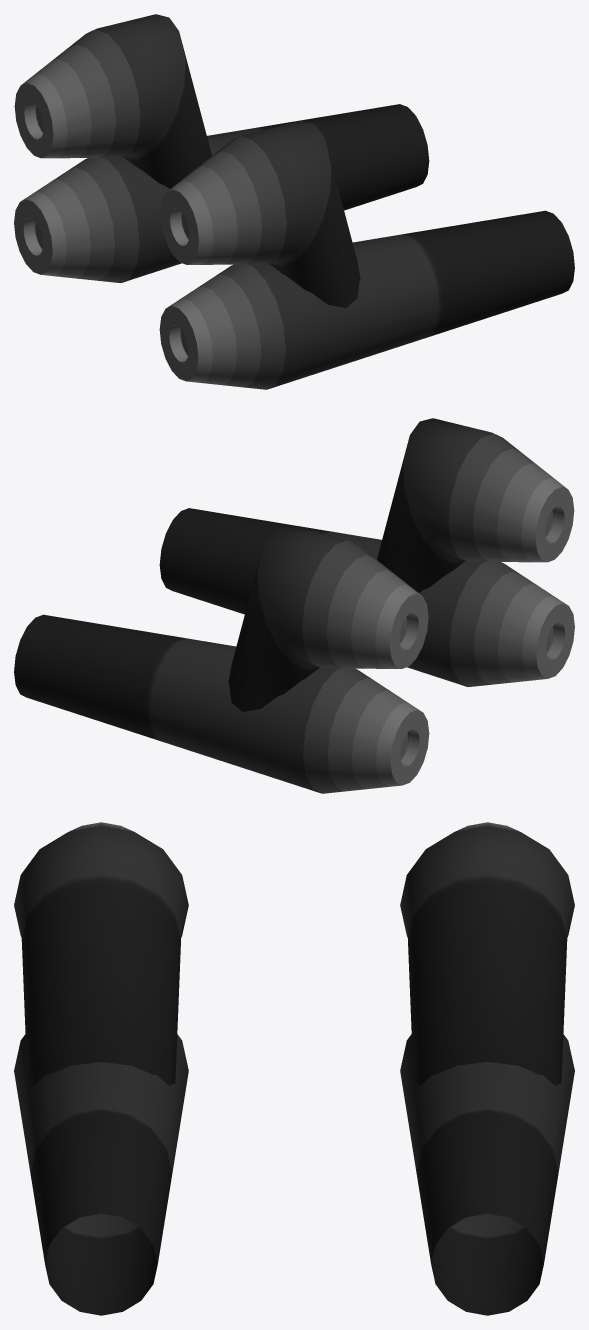
The model's file is Dead_Exhaust.FBX.
3 renders of one model, top to bottom at view 1: azimuth 30°, elevation 25°; view 2: azimuth 150°, elevation 25°; view 3: azimuth 270°, elevation 25°, orthographic. The views are drawn at different scales.
Visible parts, largest first — view 1: Exhaust_Dead; view 2: Exhaust_Dead; view 3: Exhaust_Dead.
Boxes of the visible parts, box(x1,y1,x2,y2) form: Exhaust_Dead: box(14, 14, 574, 389); Exhaust_Dead: box(14, 418, 574, 793); Exhaust_Dead: box(14, 822, 574, 1315).
Bounding box in the file's own units: 73.35 × 46.03 × 71.76.
